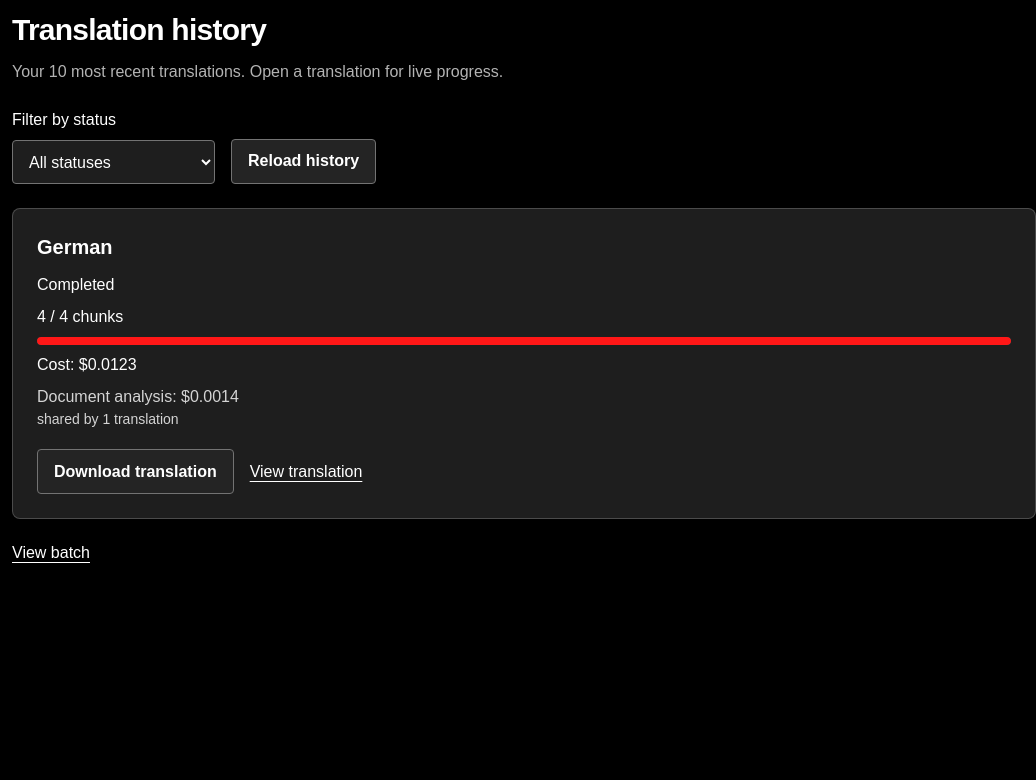
Test case: translation history › explains when a filter has no matches
Check: the element named "Translation to German" is shown, box [12,208,1035,519]
Select "Queued" in the dropdown labelled "Filter by status". click: (114, 162)
box: [12,140,215,184]
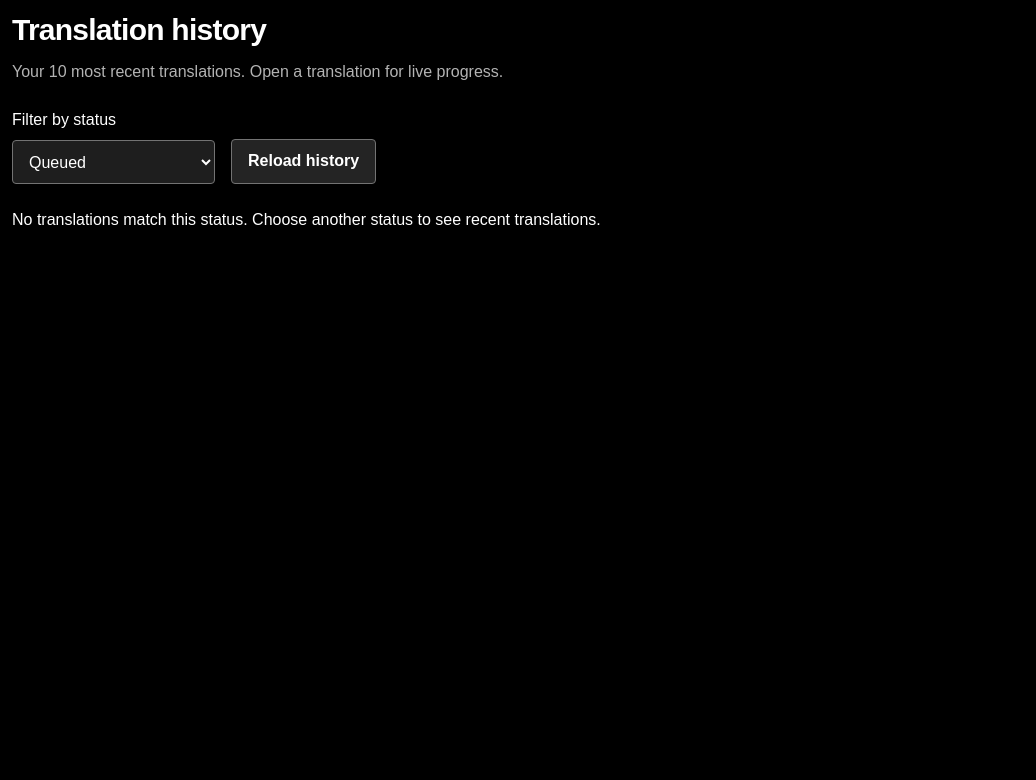
Check: the message shows "No translations match this status", box [12,211,601,228]
Check: the list is gone
